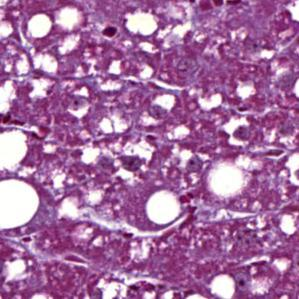steatosis: (145, 187, 183, 227)
